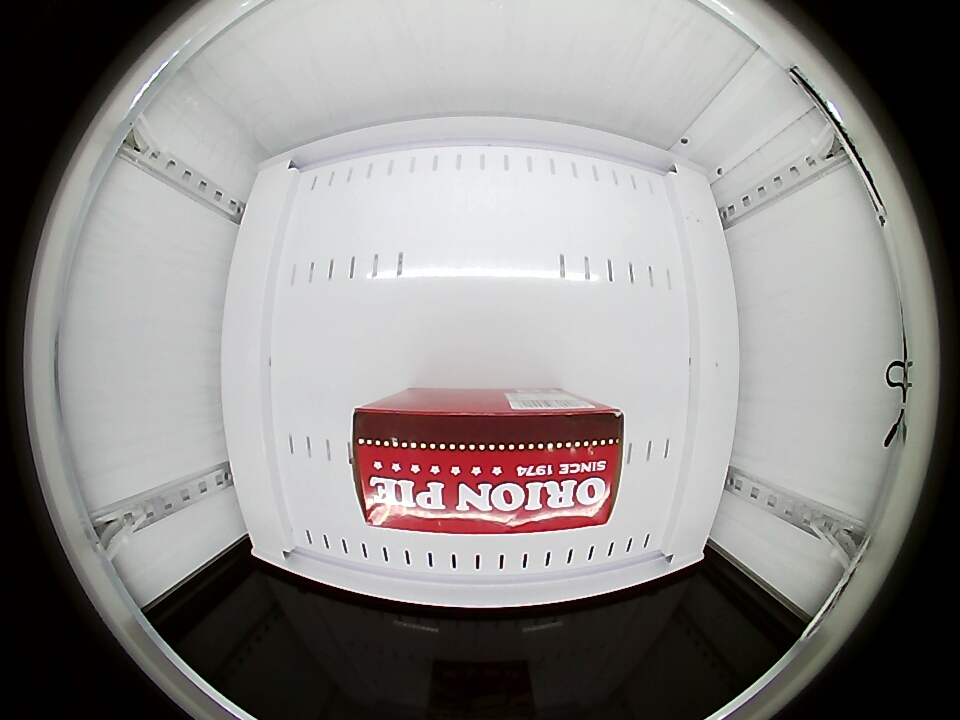haoliyou: (350, 398, 624, 535)
